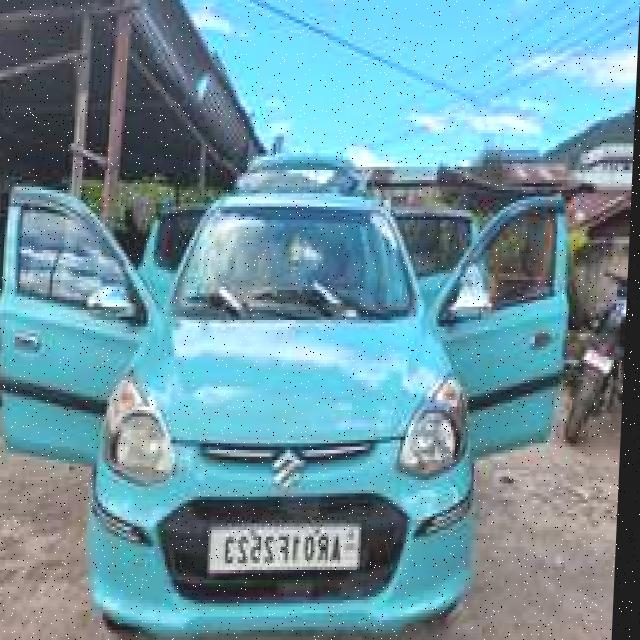plate: (213, 521, 367, 578)
